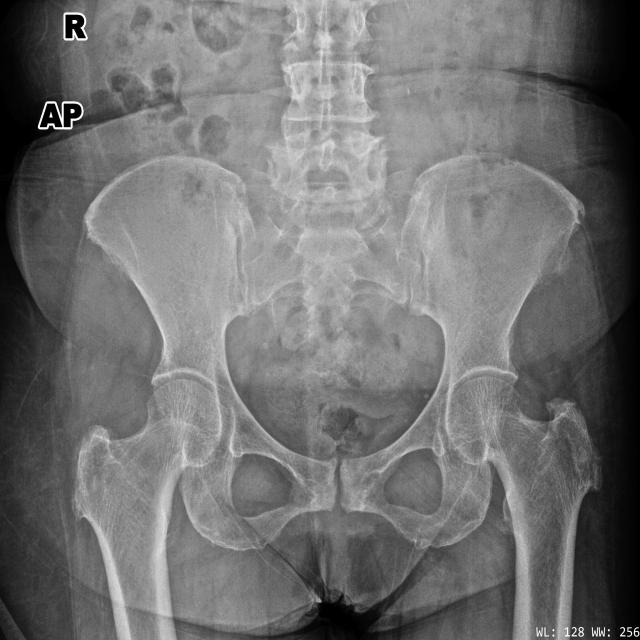normal-left: (445, 377, 603, 640)
normal-right: (71, 379, 223, 640)
